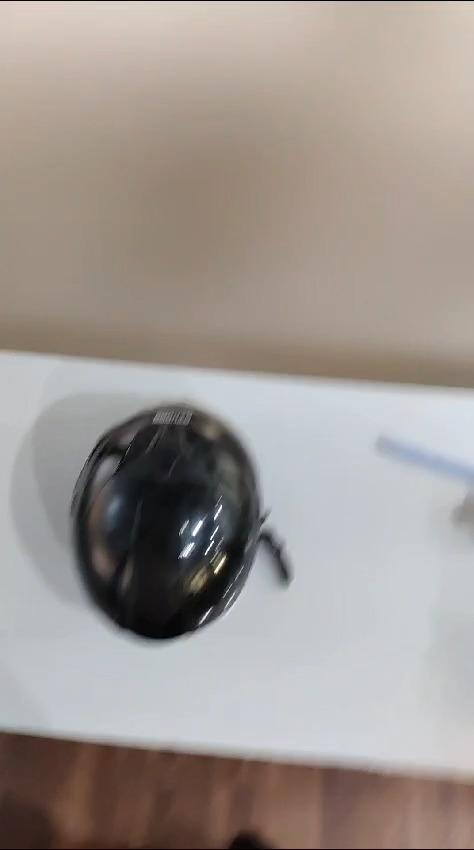Helmet: (74, 396, 266, 662)
